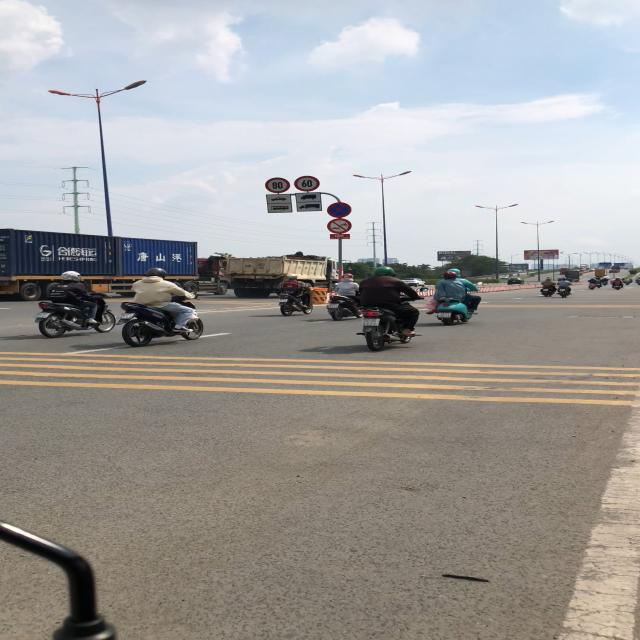Bien bao cam dung xe va do xe: (326, 202, 353, 218)
Bien bao toc do toi da cho phep: (262, 176, 292, 194), (293, 174, 322, 192)
